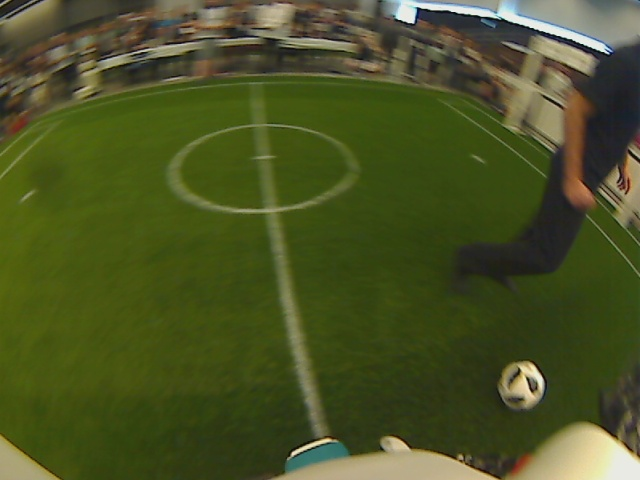ball: (497, 360, 548, 412)
